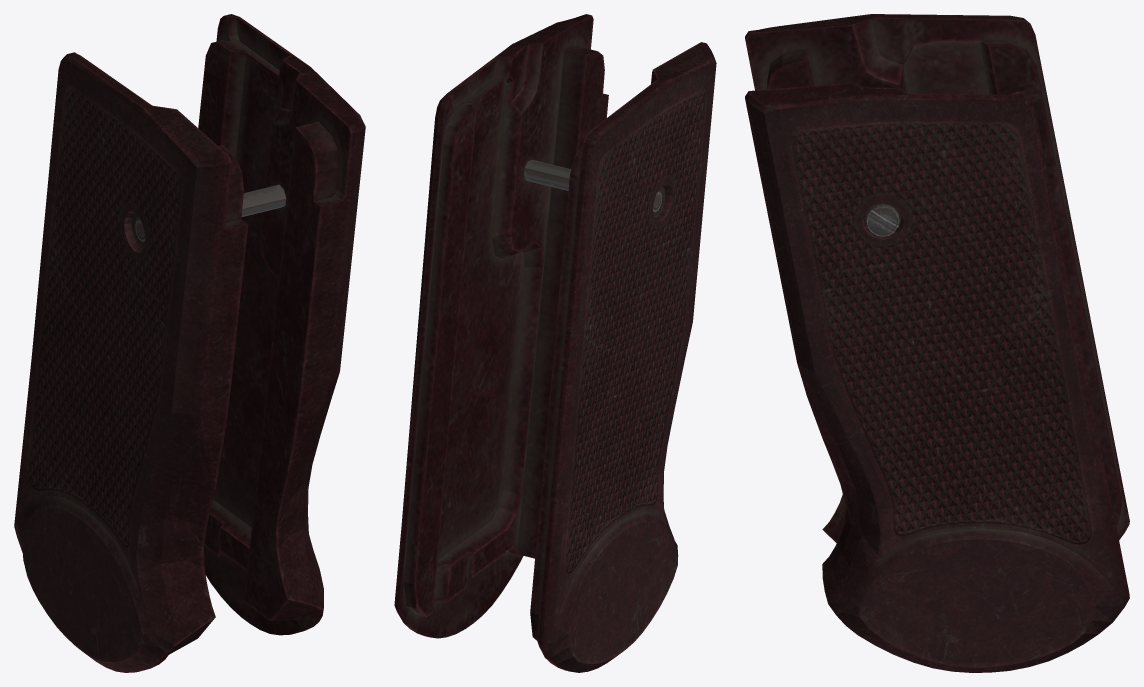
The picture shows the model from 3 angles, left to right: view 1: azimuth 30°, elevation 25°; view 2: azimuth 150°, elevation 25°; view 3: azimuth 270°, elevation 25°; orthographic projection. The views are drawn at different scales.
Visible parts, largest first — view 1: TW_5a17fc70fcdbcb0176308b3d_PZ_Import; view 2: TW_5a17fc70fcdbcb0176308b3d_PZ_Import; view 3: TW_5a17fc70fcdbcb0176308b3d_PZ_Import.
Boxes of the visible parts, <box> form: TW_5a17fc70fcdbcb0176308b3d_PZ_Import: <box>14,14,365,672</box>; TW_5a17fc70fcdbcb0176308b3d_PZ_Import: <box>394,14,716,672</box>; TW_5a17fc70fcdbcb0176308b3d_PZ_Import: <box>745,14,1129,672</box>.
Size of the model in its own units: 0.0189 by 0.0353 by 0.0589.
1 material, 1 textured.
